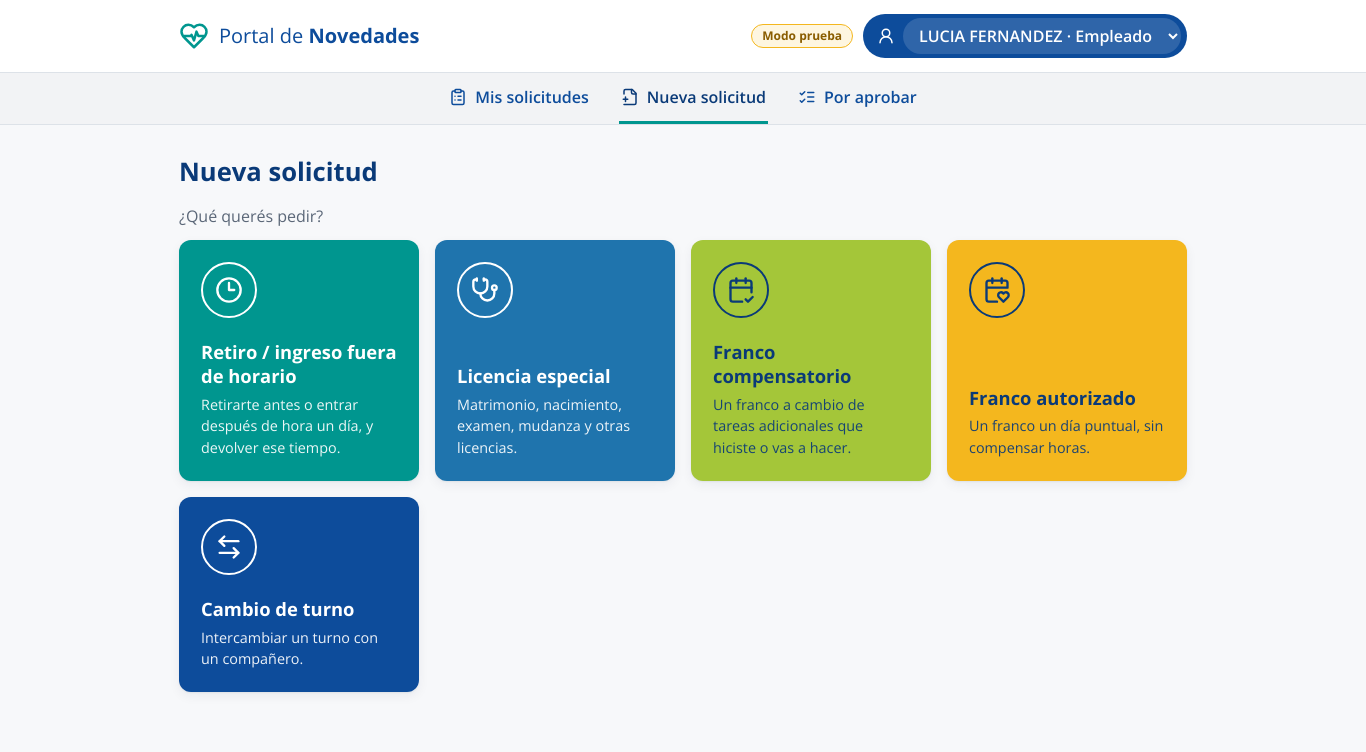
Nueva solicitud › revisa las advertencias y envía
Click the button "Franco autorizado" at (1067, 360), box [947,240,1187,481]
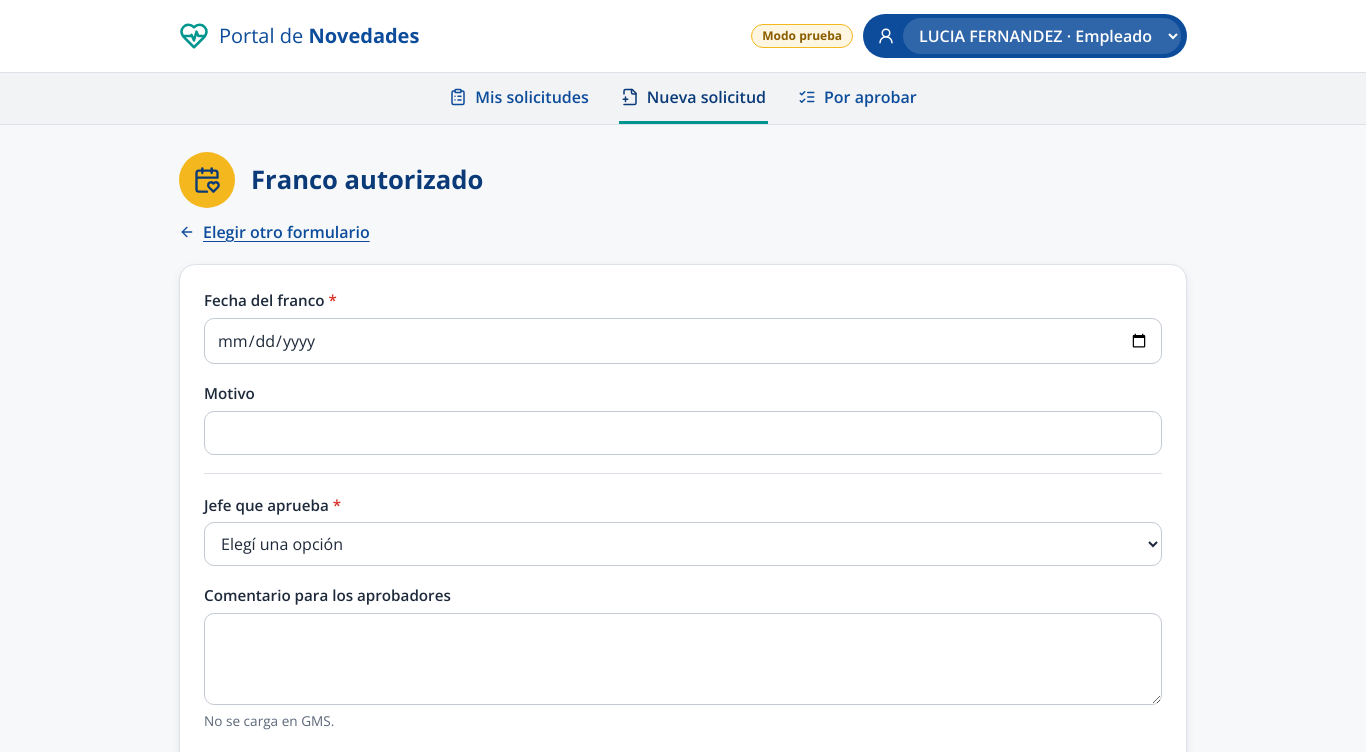
Type "2026-12-02" into the date field labelled "Fecha del franco *" at (683, 341), box [204,318,1162,364]
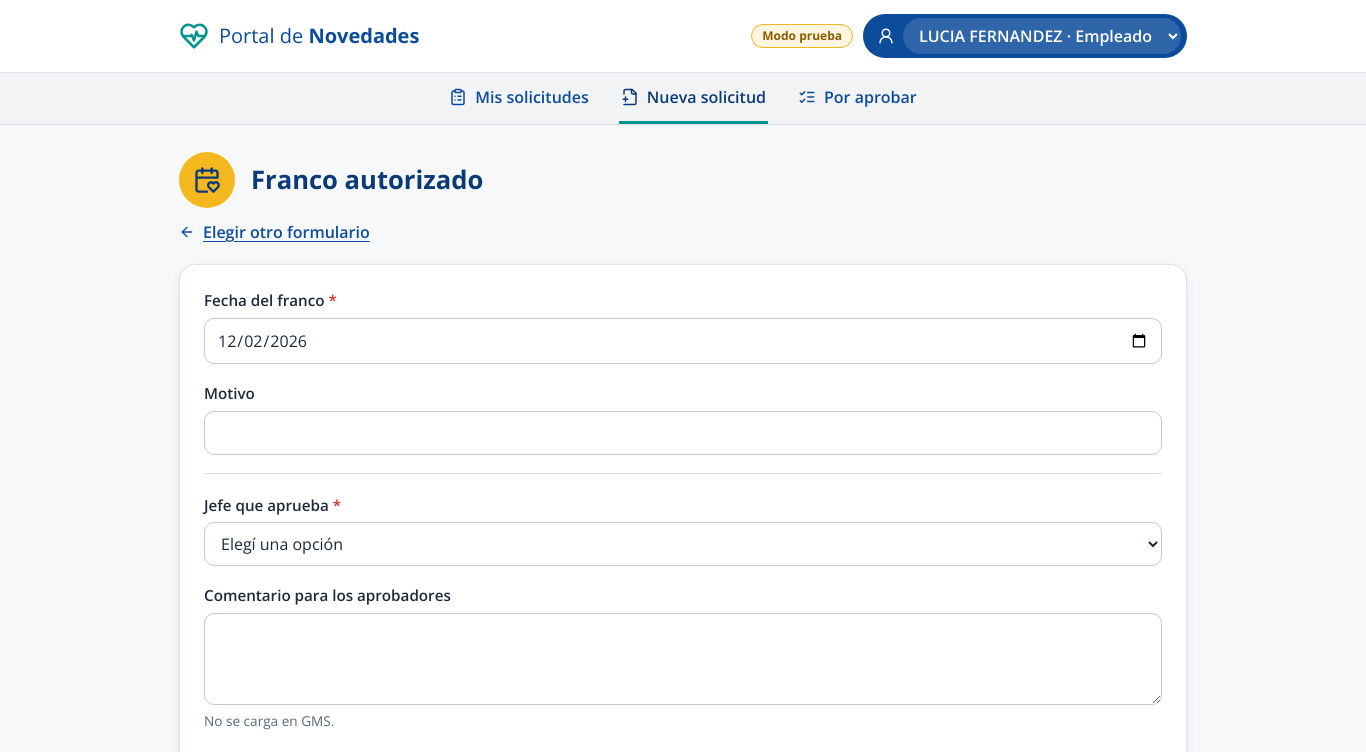
Type "Cumpleaños" into the field labelled "Motivo" at (683, 433), box [204,411,1162,455]
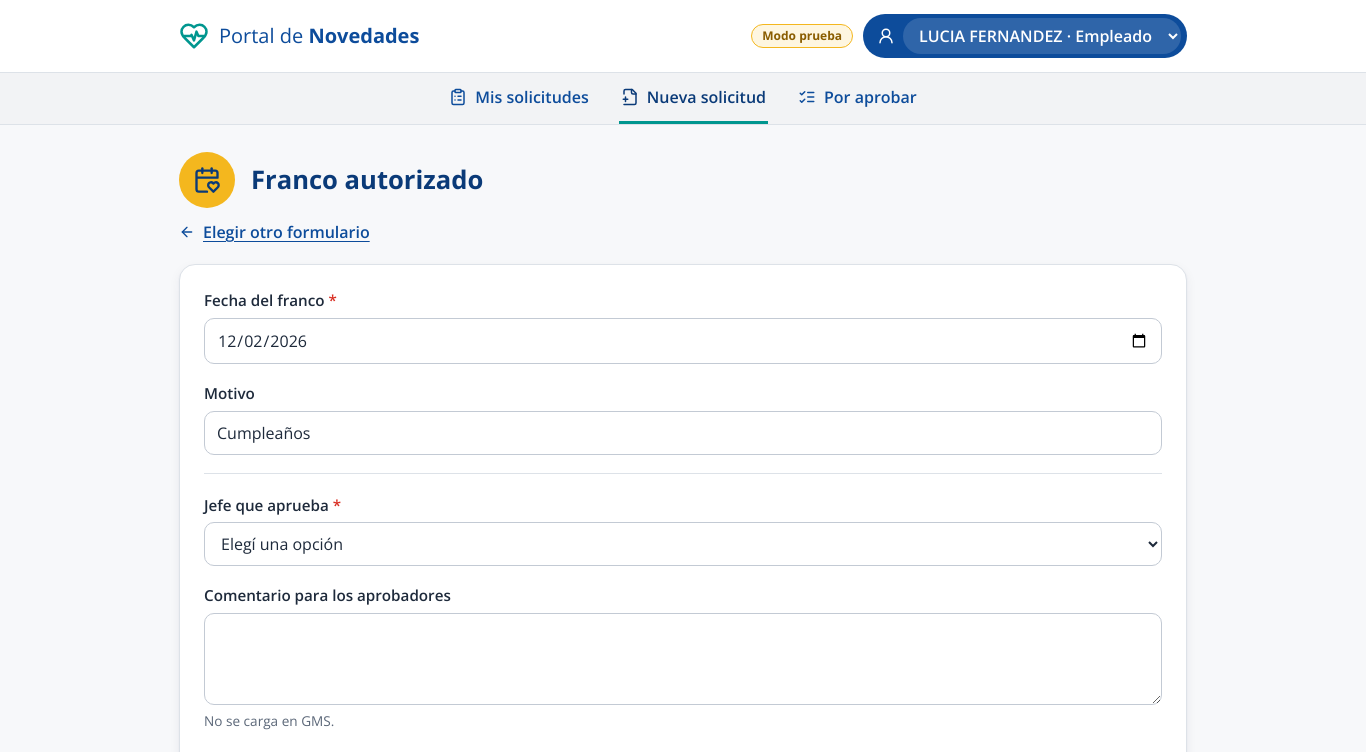
Select "MARIA LOPEZ (2001)" in the dropdown labelled "Jefe que aprueba *" at (683, 544), box [204,522,1162,566]
(page scrolled)
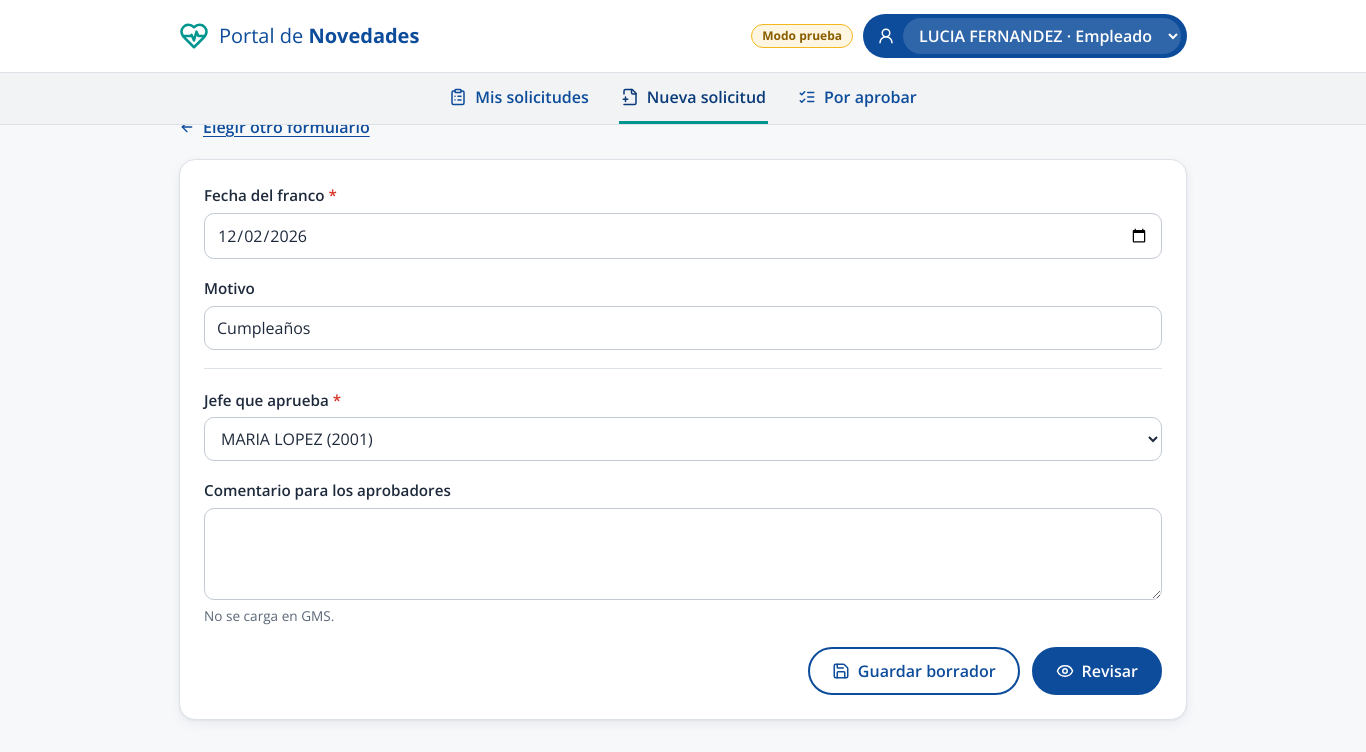
Click the button "Revisar" at (1097, 671), box [1032,647,1162,695]
(page scrolled)
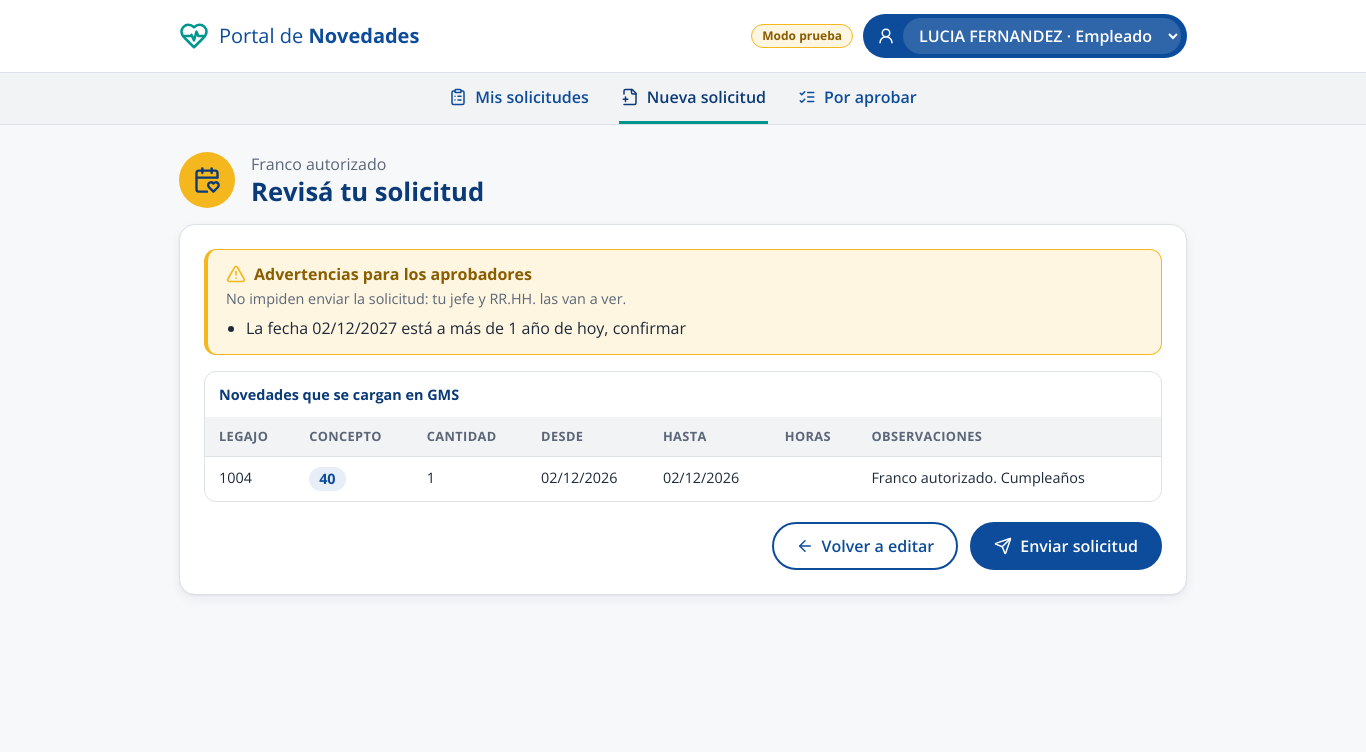
Expected: the list item "La fecha 02/12/2027 está a más de 1 año de hoy, confirmar" is shown, [246,317,686,339]
Expected: the text "Franco autorizado. Cumpleaños" is shown, [857,457,1161,501]
Click the button "Enviar solicitud" at (1066, 546), box [970,522,1162,570]
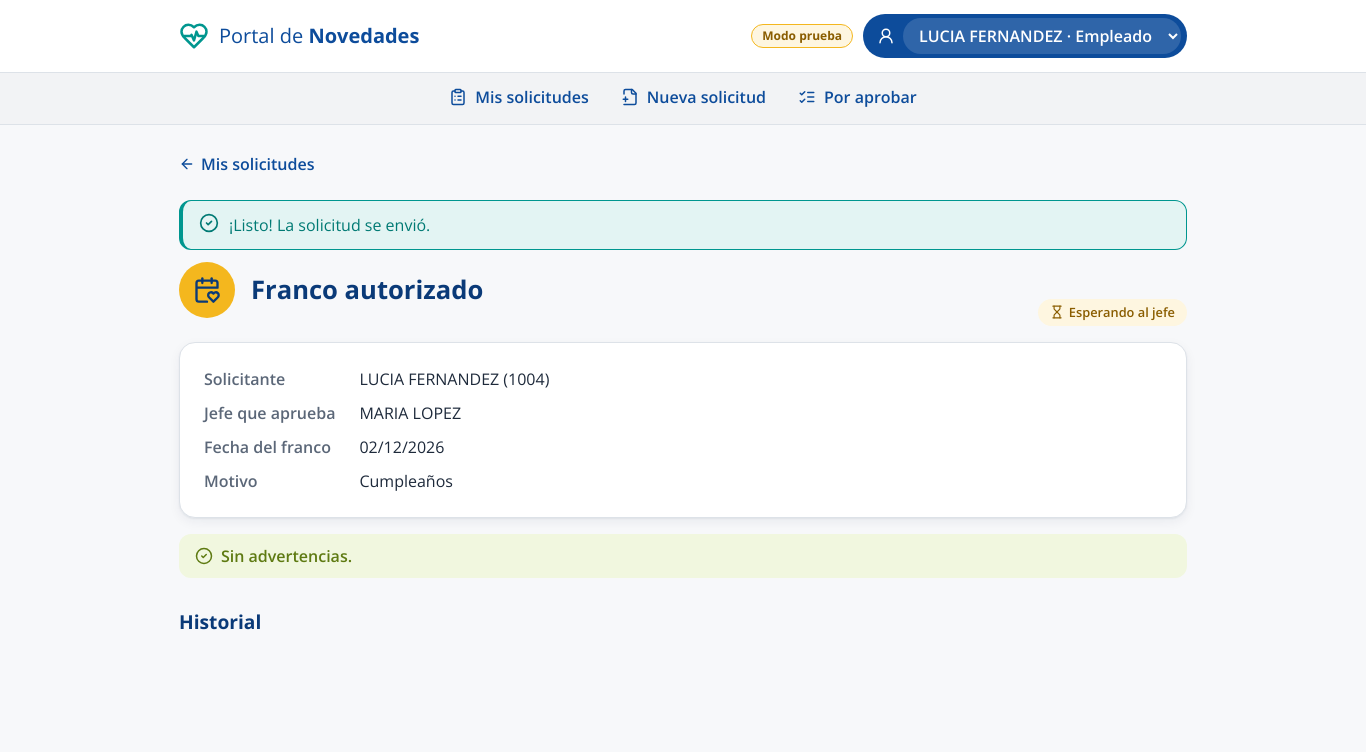
Expected: the text "¡Listo! La solicitud se envió." is shown, [229,213,430,237]
Expected: the text "Esperando al jefe" is shown, [1038,299,1187,326]
